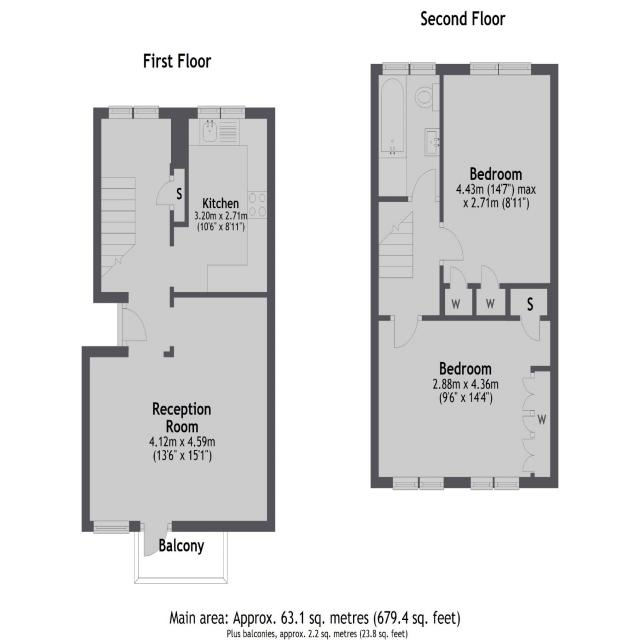DOOR: (438, 225, 467, 263), (392, 313, 420, 352), (410, 166, 438, 203), (121, 307, 148, 342), (143, 522, 169, 558), (519, 314, 541, 342), (155, 179, 175, 206)
ROOM: (81, 291, 276, 559), (370, 314, 559, 491), (439, 62, 559, 289), (155, 105, 275, 298)
WINDOW: (92, 520, 130, 535), (498, 61, 532, 76), (469, 61, 499, 76), (409, 61, 437, 76), (382, 61, 409, 76), (392, 476, 419, 491), (220, 105, 246, 120), (494, 476, 520, 491), (108, 105, 133, 120), (419, 476, 444, 491), (133, 105, 159, 119), (197, 105, 221, 120), (470, 476, 494, 491)
